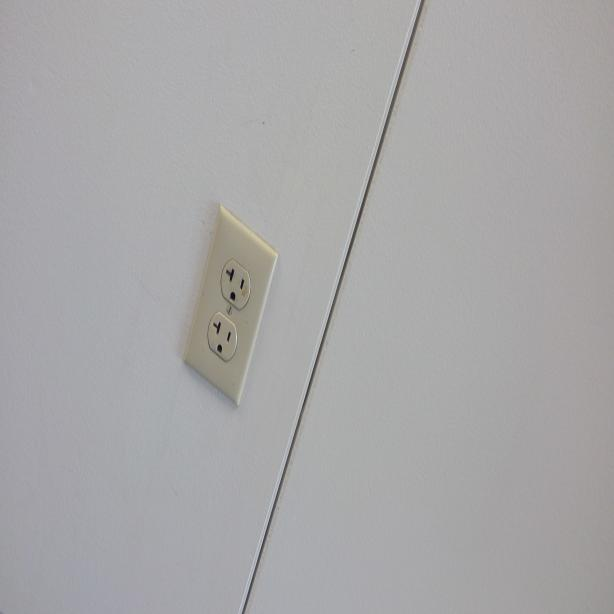typeb: (218, 257, 250, 309), (207, 317, 237, 361)
